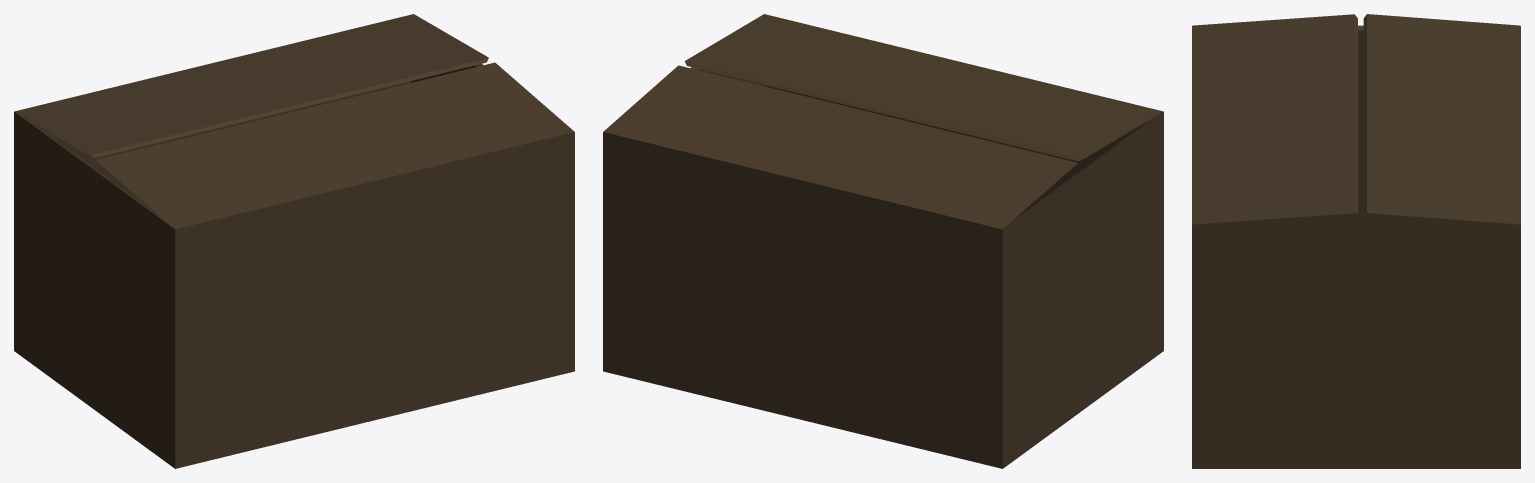
File: CartonBox_Close.fbx
3 views of the same model, side by side, from view 1: azimuth 30°, elevation 25°; view 2: azimuth 150°, elevation 25°; view 3: azimuth 270°, elevation 25° (orthographic). The views are drawn at different scales.
Parts seen in each view (by area): view 1: pasted__pCube1; view 2: pasted__pCube1; view 3: pasted__pCube1.
Boxes of the visible parts, <box> form: pasted__pCube1: <box>14,14,574,468</box>; pasted__pCube1: <box>603,14,1163,468</box>; pasted__pCube1: <box>1192,14,1520,468</box>.
Size of the model in its own units: 62.76 by 37.65 by 43.82.
